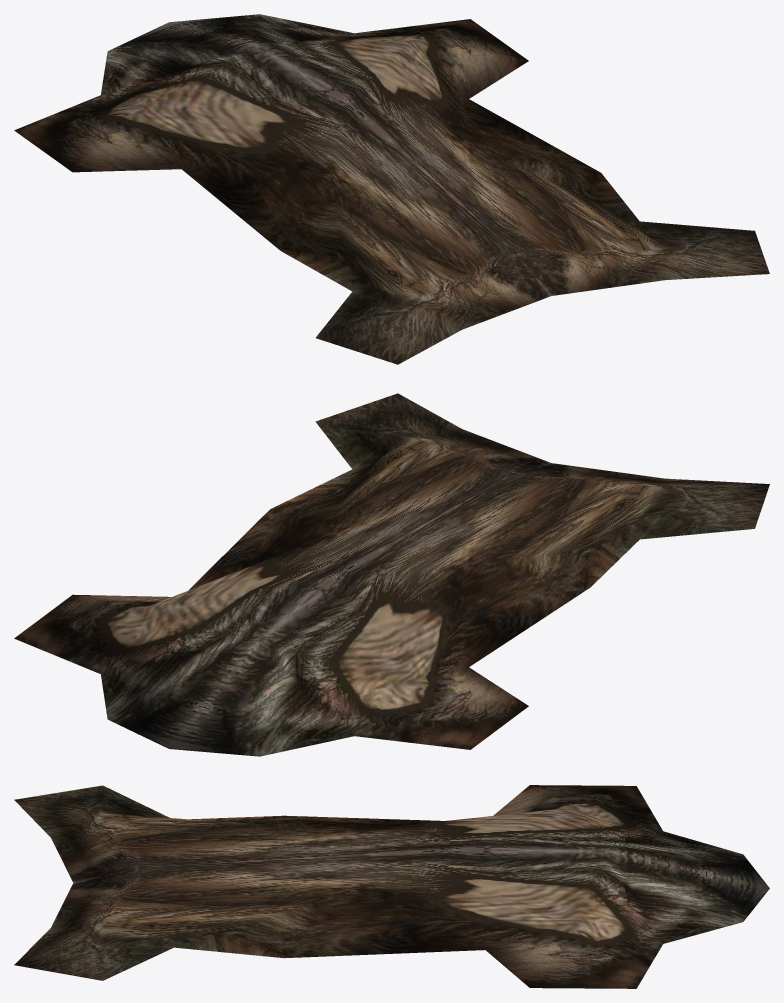
File: ITAT_TROLLFUR.glb
3 renders of one model, top to bottom at view 1: azimuth 30°, elevation 25°; view 2: azimuth 150°, elevation 25°; view 3: azimuth 270°, elevation 25°, orthographic. The views are drawn at different scales.
Parts seen in each view (by area): view 1: Mesh; view 2: Mesh; view 3: Mesh.
Boxes of the visible parts, x1,y1,x2,y2 form: Mesh: (14, 14, 769, 364); Mesh: (14, 393, 769, 756); Mesh: (14, 785, 769, 988).
Bounding box in the file's own units: 1.08 × 0.1031 × 1.7.
Materials: 1 (1 with a texture image).
